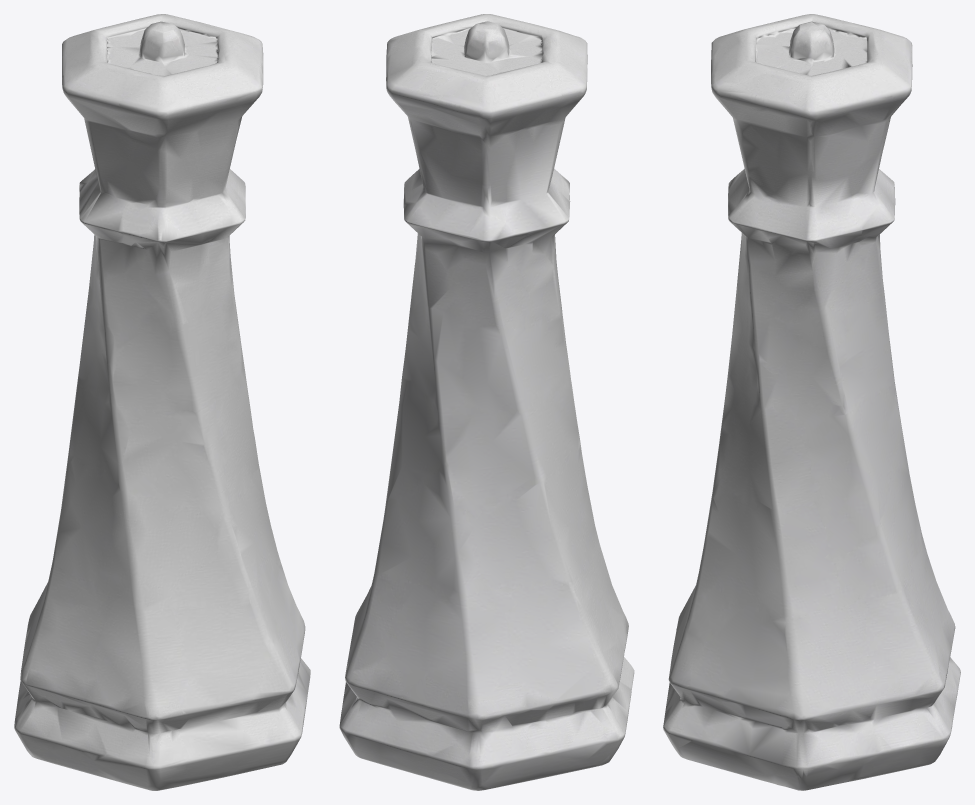
The model's file is queen-white.glb.
3 renders of one model, left to right at view 1: azimuth 30°, elevation 25°; view 2: azimuth 150°, elevation 25°; view 3: azimuth 270°, elevation 25°, orthographic.
Bounding box in the file's own units: 0.6052 × 1.45 × 0.5535.
1 material, 1 textured.
